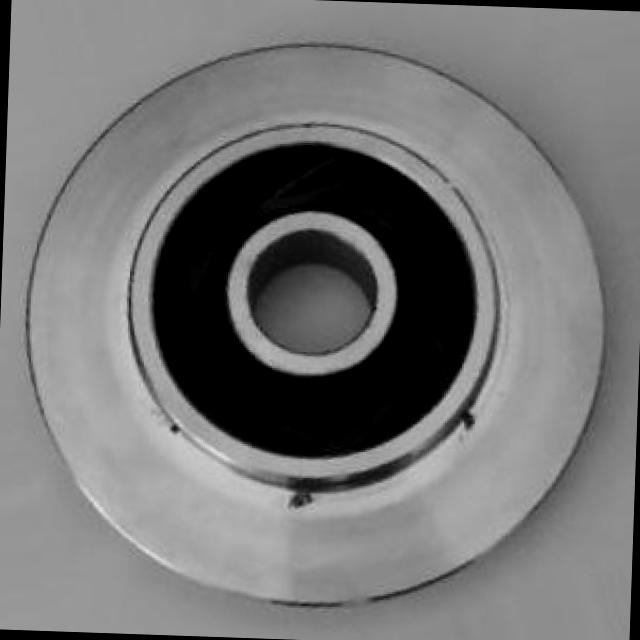Defect: (288, 488, 316, 514)
